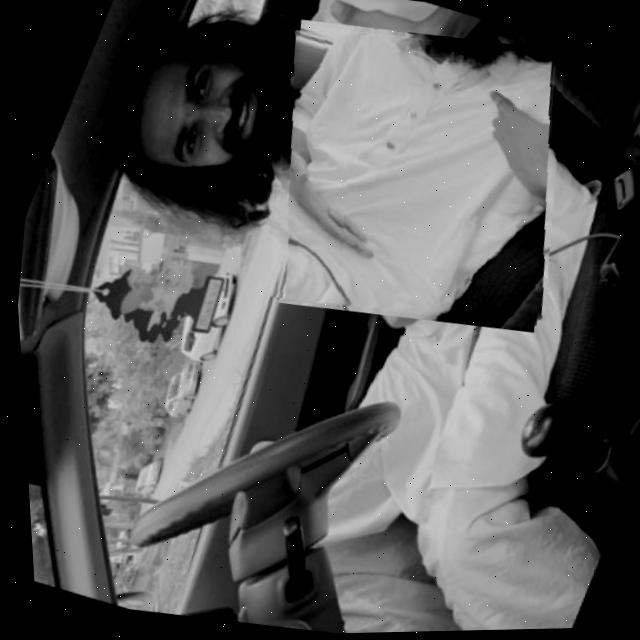no-seatbelt: (251, 20, 576, 336)
